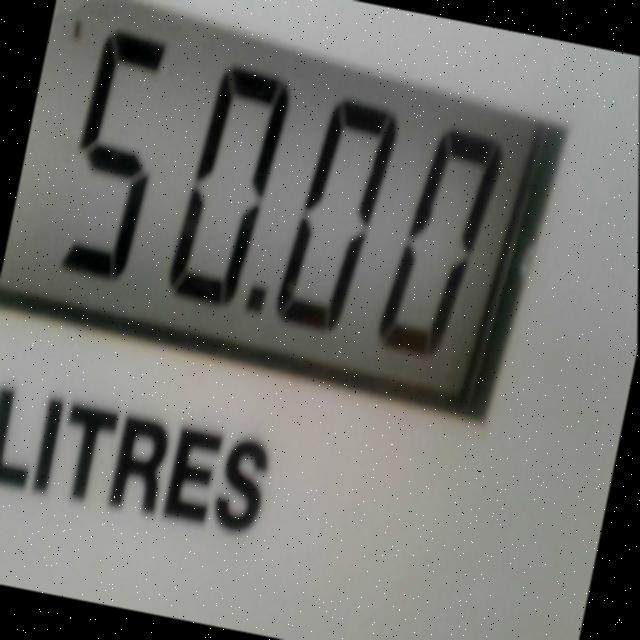.: (231, 276, 272, 350)
0: (358, 108, 524, 384), (261, 76, 403, 359), (156, 48, 300, 324)
5: (35, 16, 193, 298)
